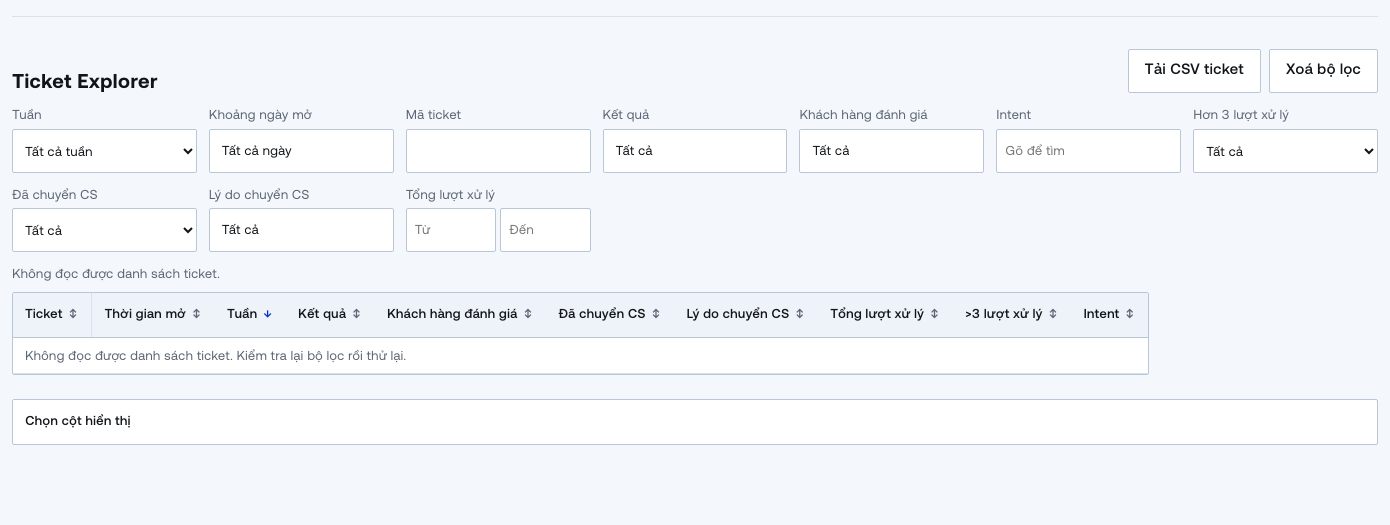
Test: Ticket Explorer › puts an explicit observed-week filter first in Ticket Explorer
Check: the element with id "ticketFilters" is shown, box [12,105,1378,252]
Select "06/07–12/07" in the dropdown labelled "Tuần" at (104, 150), box [12,128,197,172]
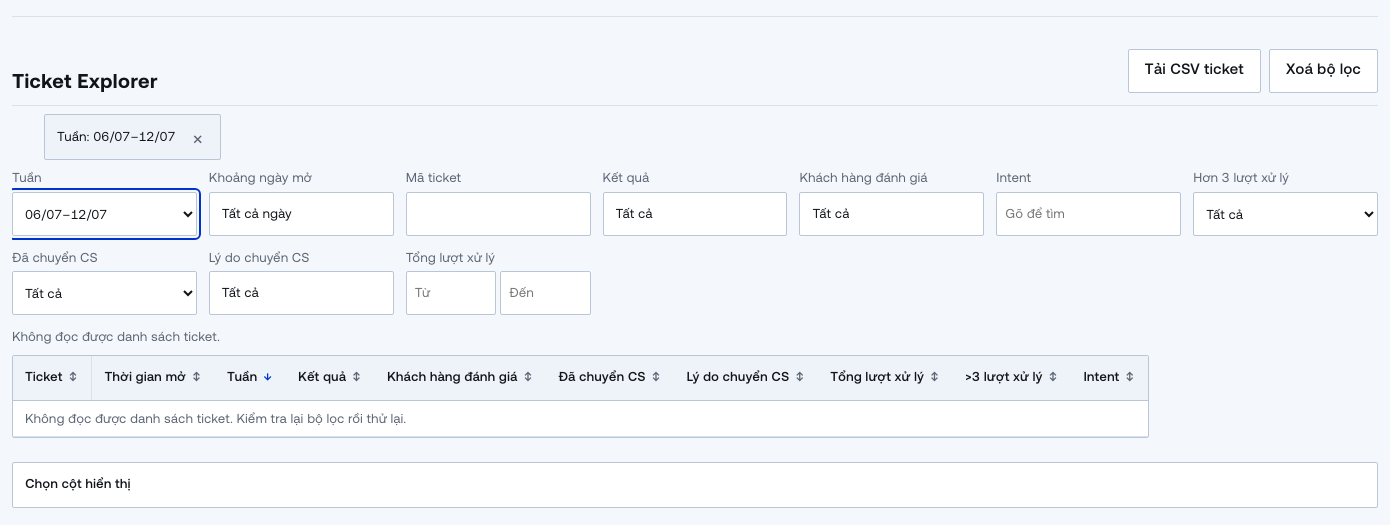
Check: the element named "Bộ lọc đang áp dụng trong Ticket Explorer" shows "Tuần: 06/07–12/07", box [57,128,176,144]
